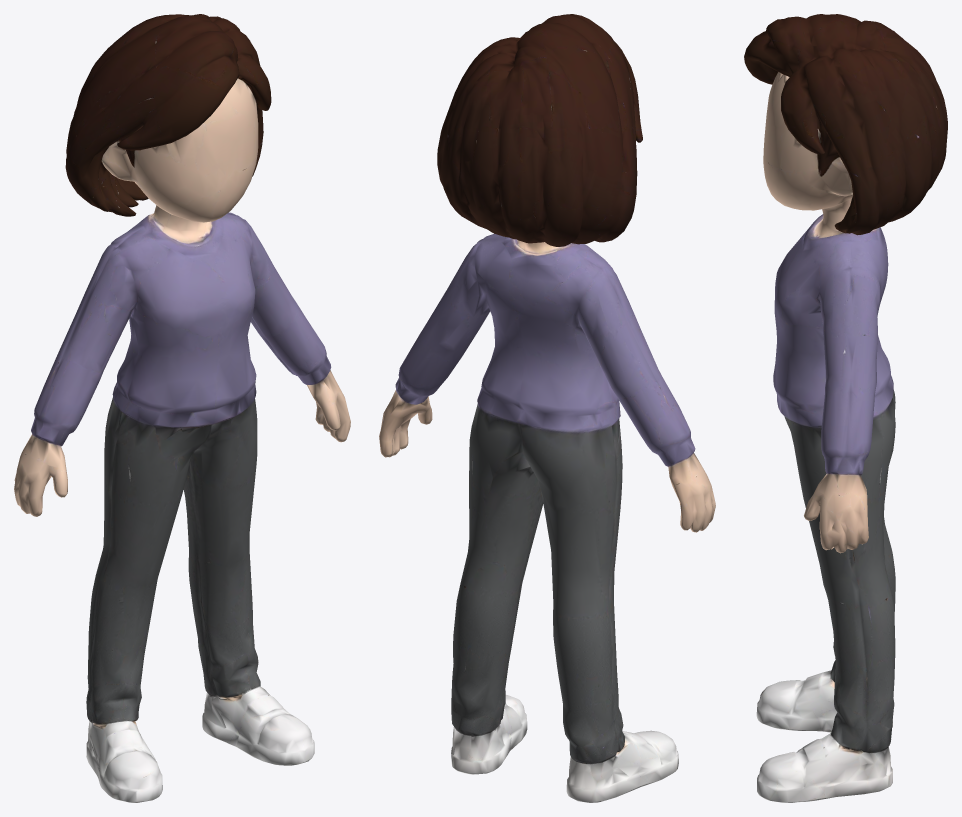
File: female_3d.optimized.glb
The picture shows the model from 3 angles, left to right: view 1: azimuth 30°, elevation 25°; view 2: azimuth 150°, elevation 25°; view 3: azimuth 270°, elevation 25°; orthographic projection.
Bounding box in the file's own units: 0.8832 × 1.9 × 0.4769.
Materials: 1 (1 with a texture image).
